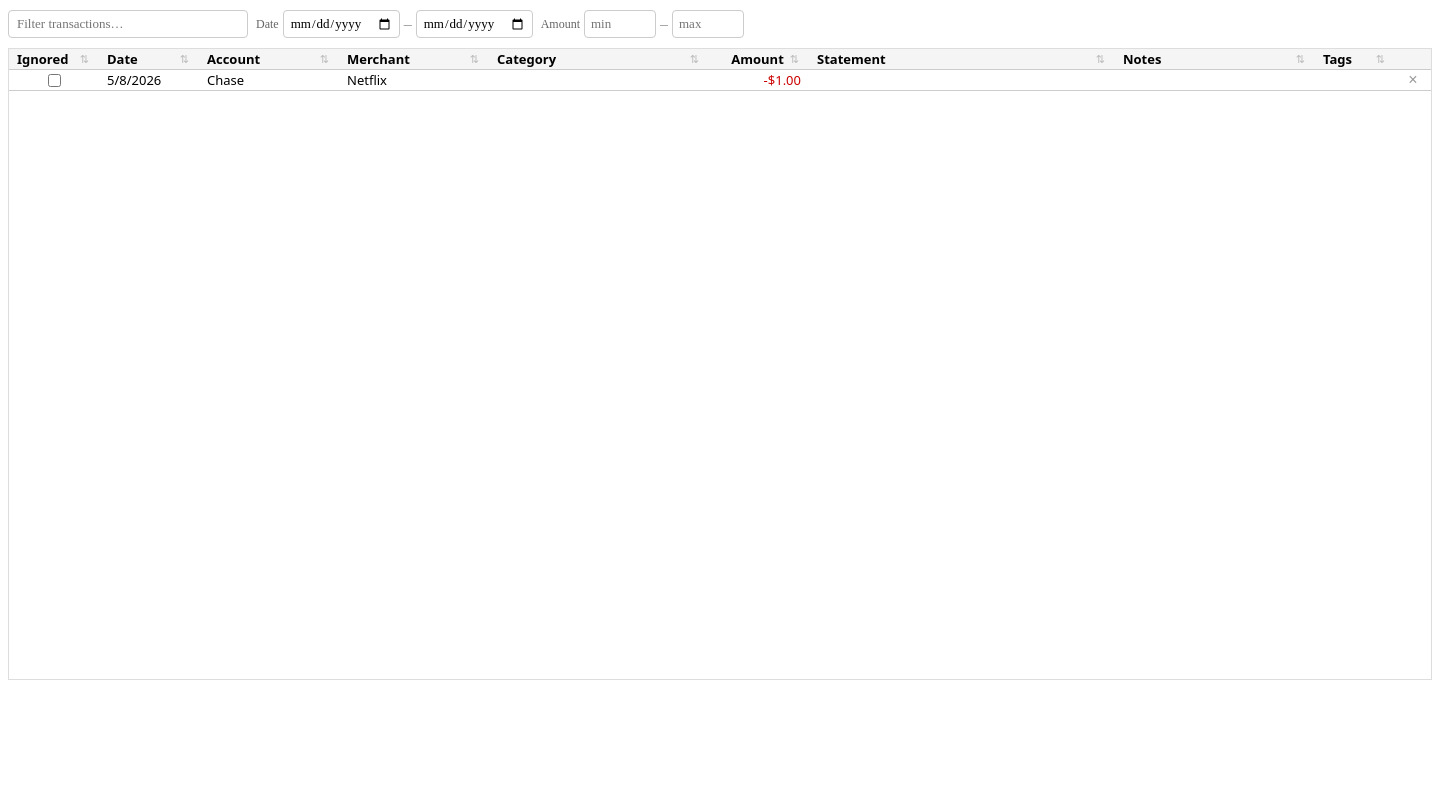
Test: Grid › clicking a cell opens an inline editor with the current value
Click the text "Netflix": (367, 80) x1=347 y1=71 x2=387 y2=89
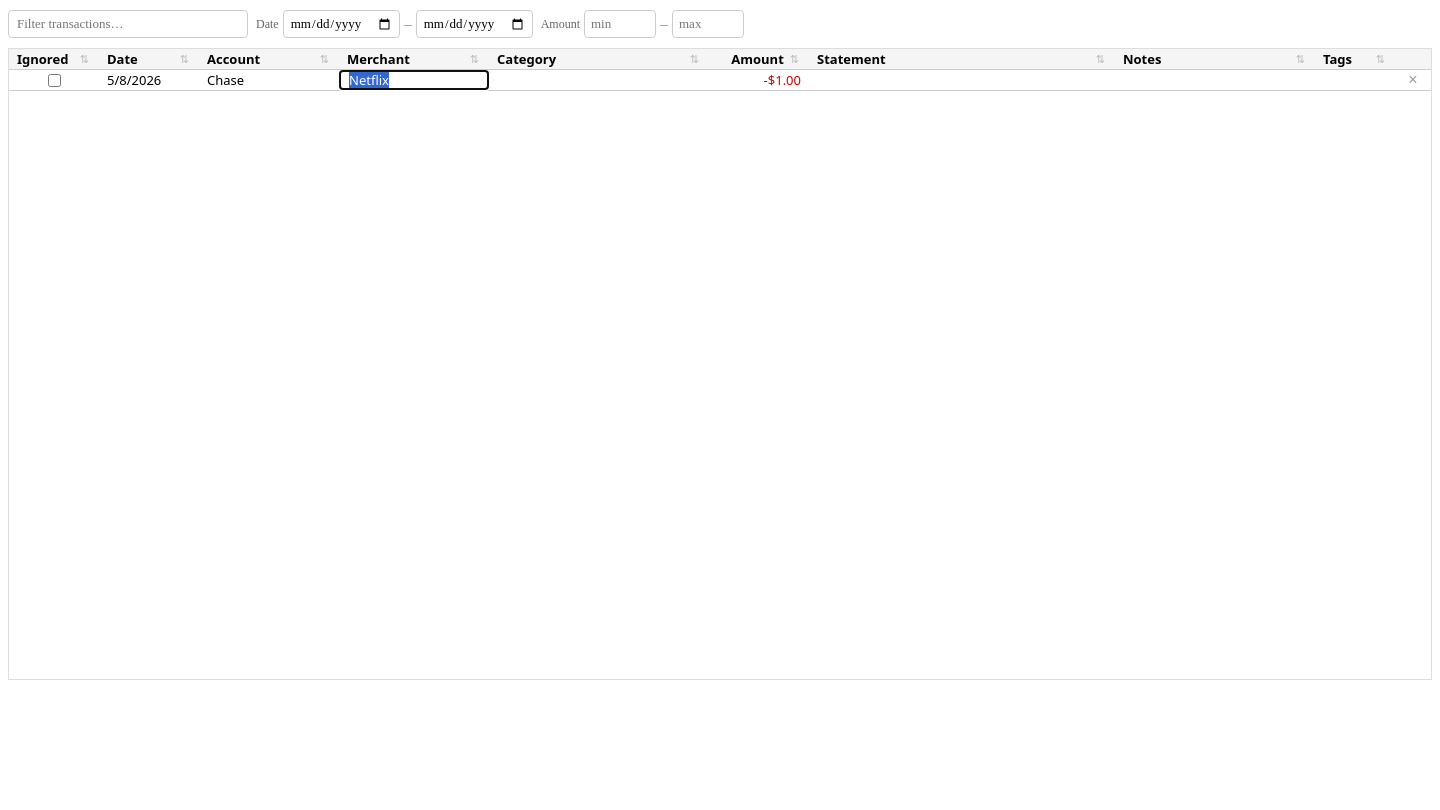
Check: the field showing "Netflix" is shown, box x1=339 y1=70 x2=489 y2=90
